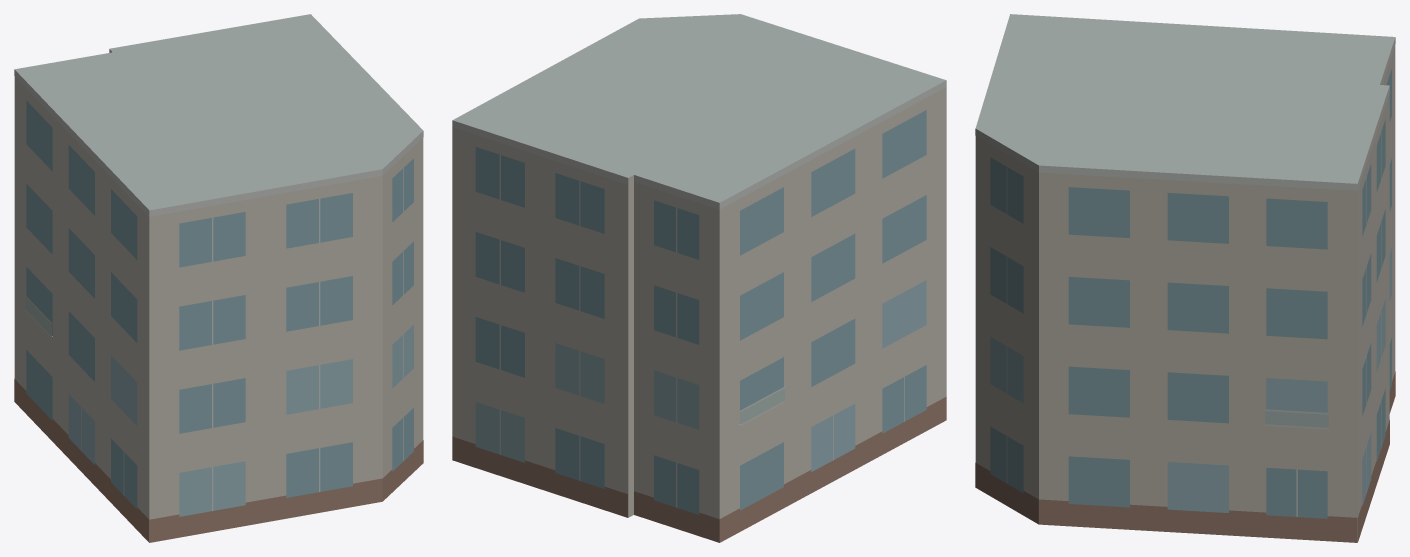
Rendered from survey-upis-32970122.glb.
3 views of the same model, side by side, from view 1: azimuth 30°, elevation 25°; view 2: azimuth 150°, elevation 25°; view 3: azimuth 270°, elevation 25° (orthographic). The views are drawn at different scales.
Parts seen in each view (by area): view 1: survey-upis-32970122.tmp; view 2: survey-upis-32970122.tmp; view 3: survey-upis-32970122.tmp.
Boxes of the visible parts, x1=… form: survey-upis-32970122.tmp: x1=14, y1=14, x2=423, y2=542; survey-upis-32970122.tmp: x1=452, y1=14, x2=946, y2=542; survey-upis-32970122.tmp: x1=975, y1=14, x2=1395, y2=542.
Bounding box in the file's own units: 12.64 × 12.45 × 13.21.
